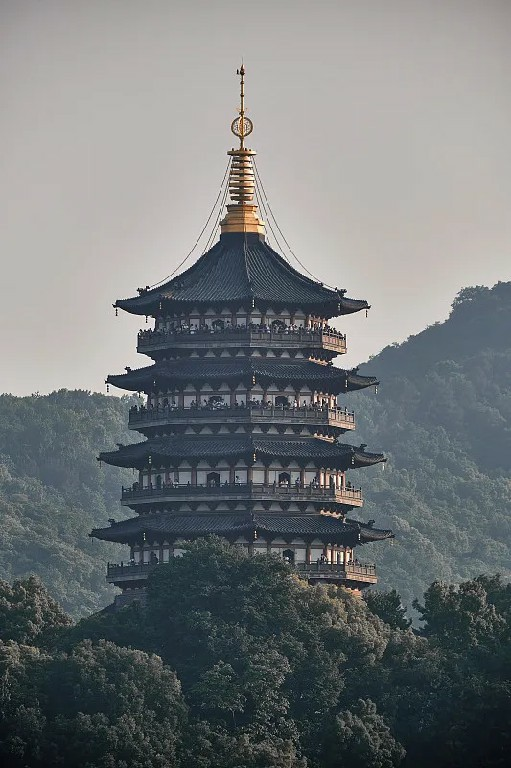Leifeng: (89, 54, 397, 593)
